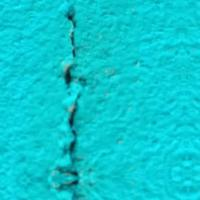crack: (47, 1, 97, 196)
